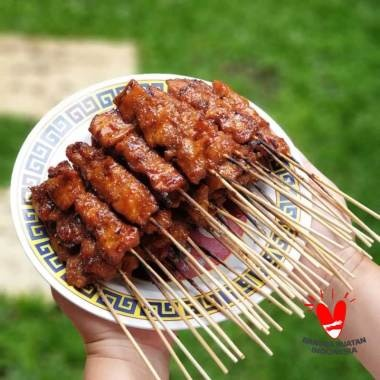sate: (27, 77, 293, 296)
